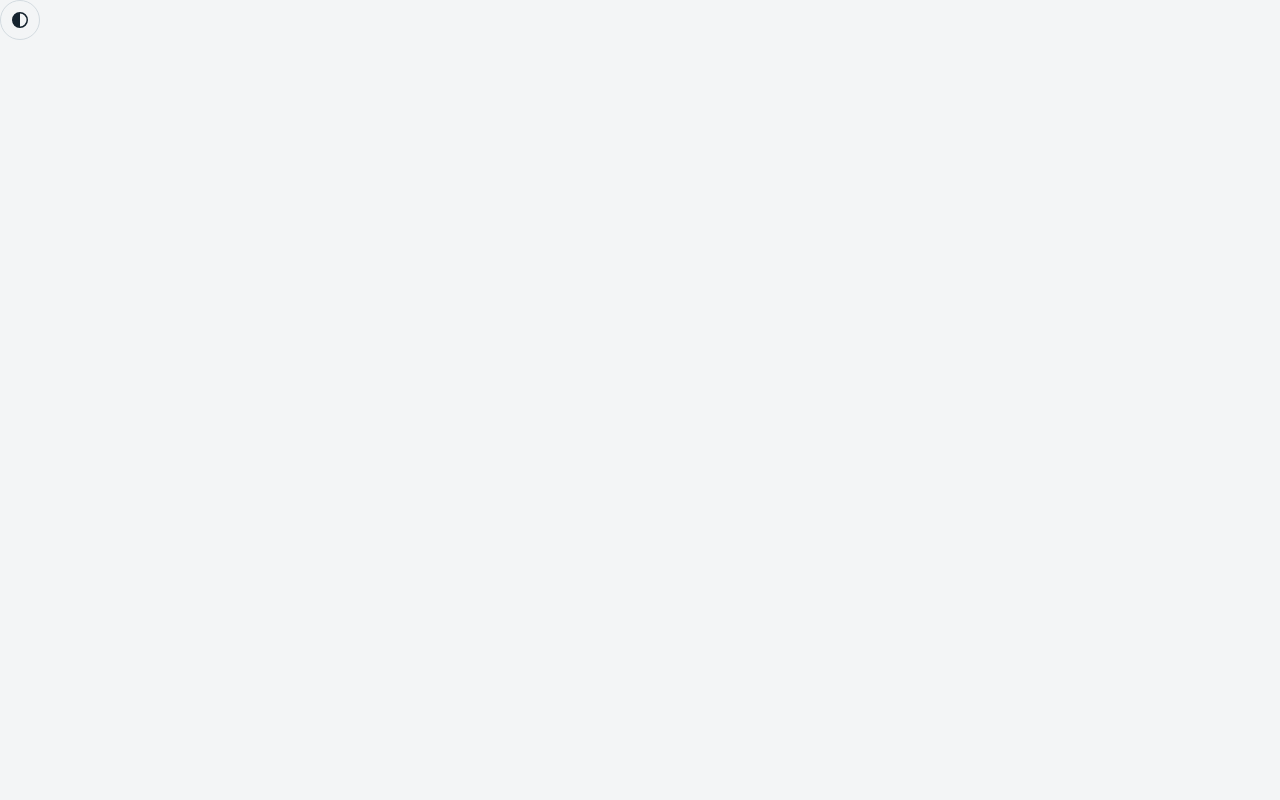
Test: ThemeToggle › uključuje tamnu temu i pamti izbor
Click the button named "Tamna tema" at coordinates (20, 20), box x1=0 y1=0 x2=40 y2=40
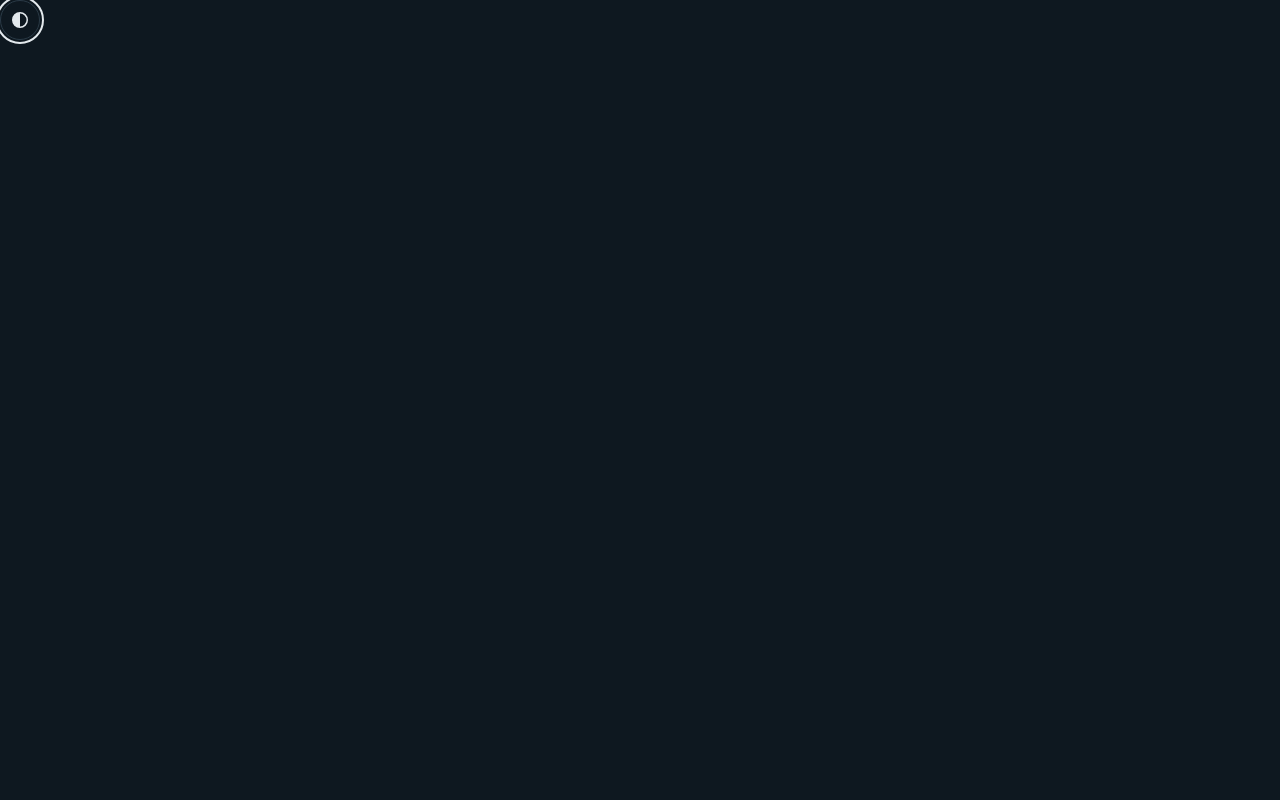
Expected: the button named "Tamna tema" is pressed, x1=0 y1=0 x2=40 y2=40
